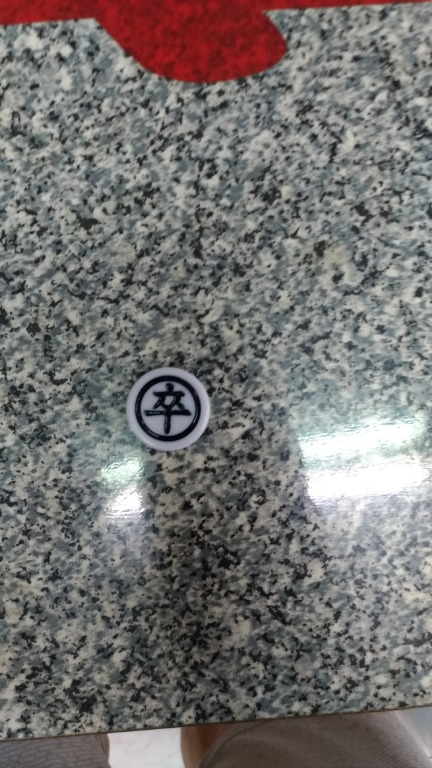b-pawn: (120, 360, 225, 463)
